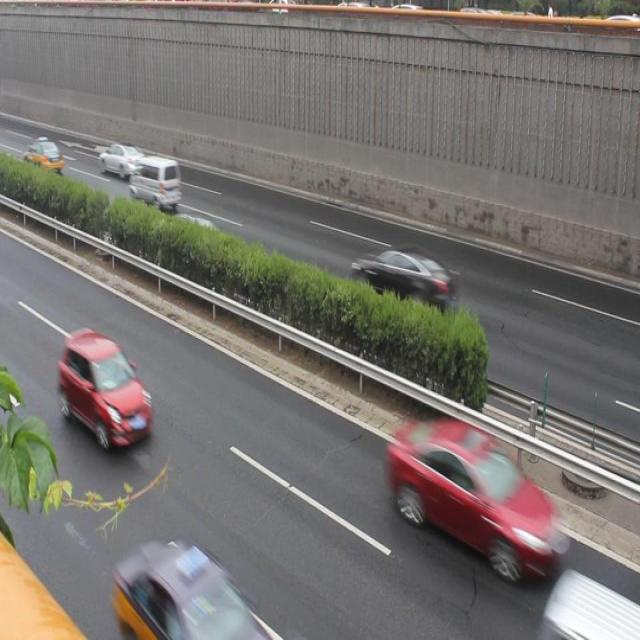car: (380, 410, 564, 556), (112, 537, 277, 640), (53, 322, 149, 451), (348, 236, 456, 318), (167, 206, 225, 267), (92, 140, 147, 186), (21, 135, 68, 177)
truck: (530, 552, 640, 640), (129, 156, 182, 210)
